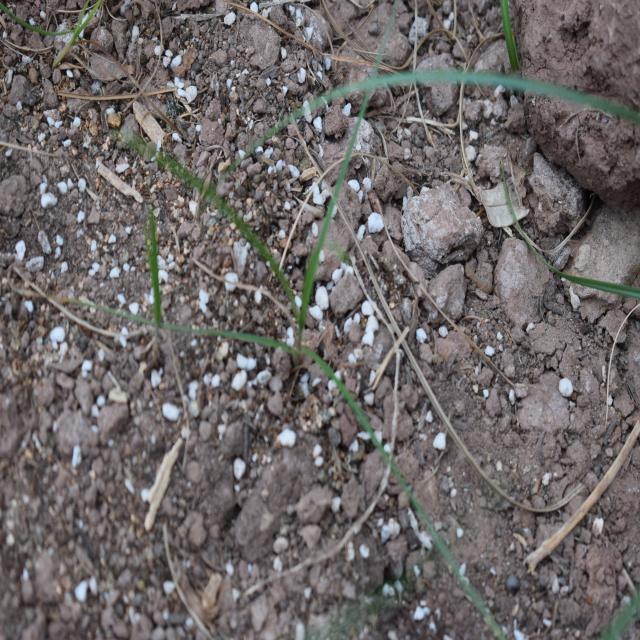sedge: (139, 126, 434, 508)
